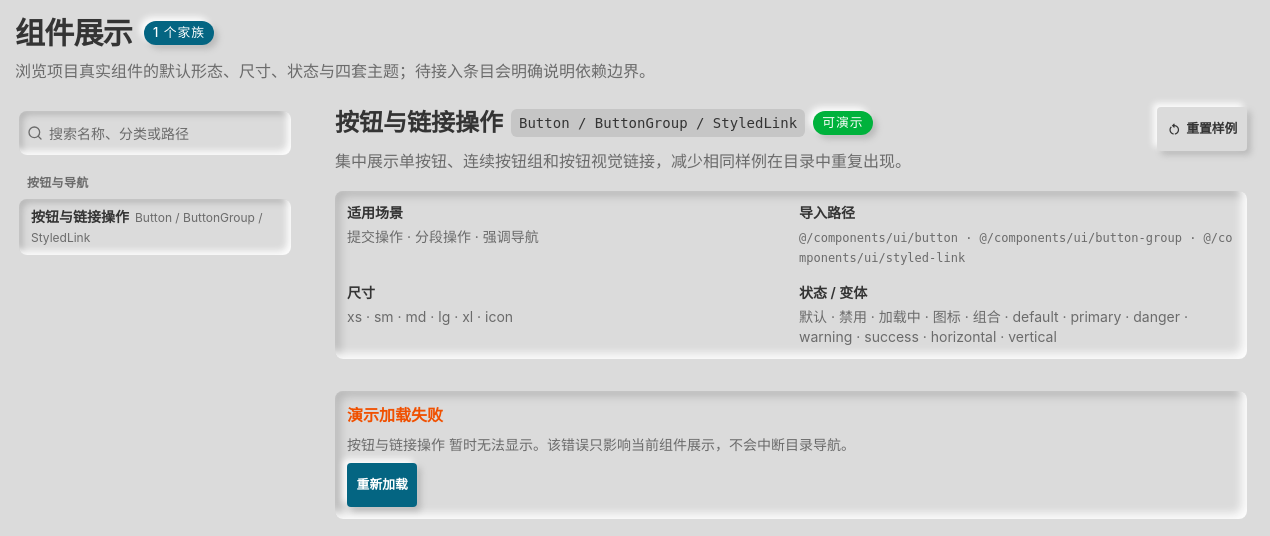
AlbumShowcase › isolates a render failure and reloads the selected module before retrying
The image size is (1270, 536).
Expected: the message shows "按钮与链接操作", [347,436,445,453]
Click the button "重新加载". click: (382, 485)
box: [347,463,417,507]
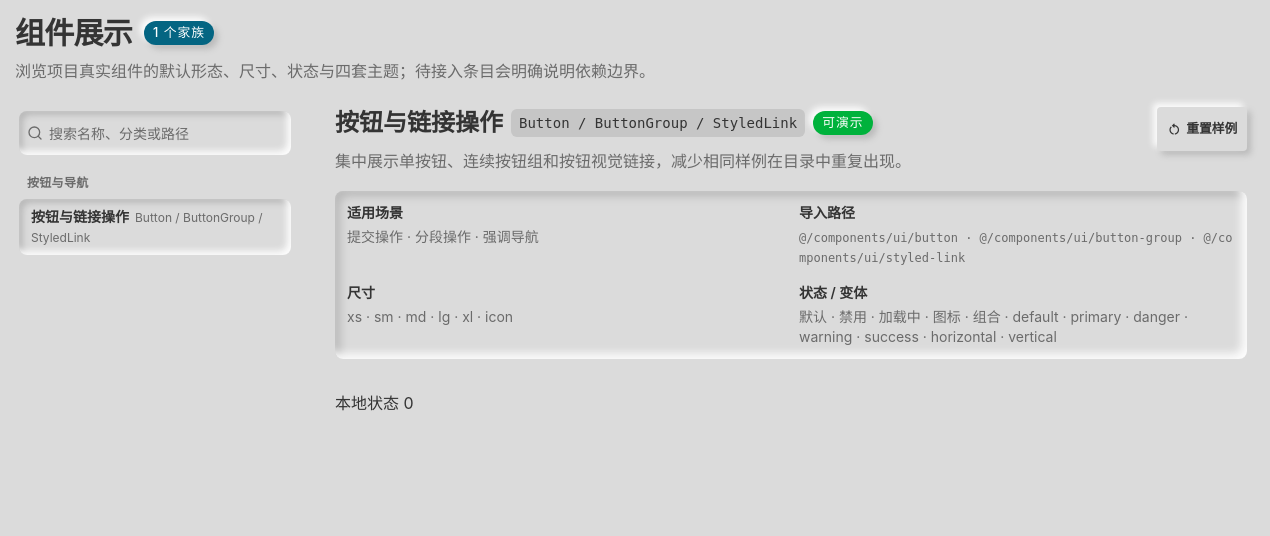
Expected: the button "本地状态 0" is shown, [335,391,414,415]
